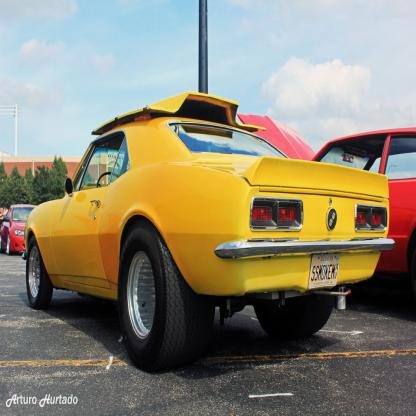Car: (23, 94, 396, 373), (240, 117, 416, 292), (1, 206, 37, 253)
